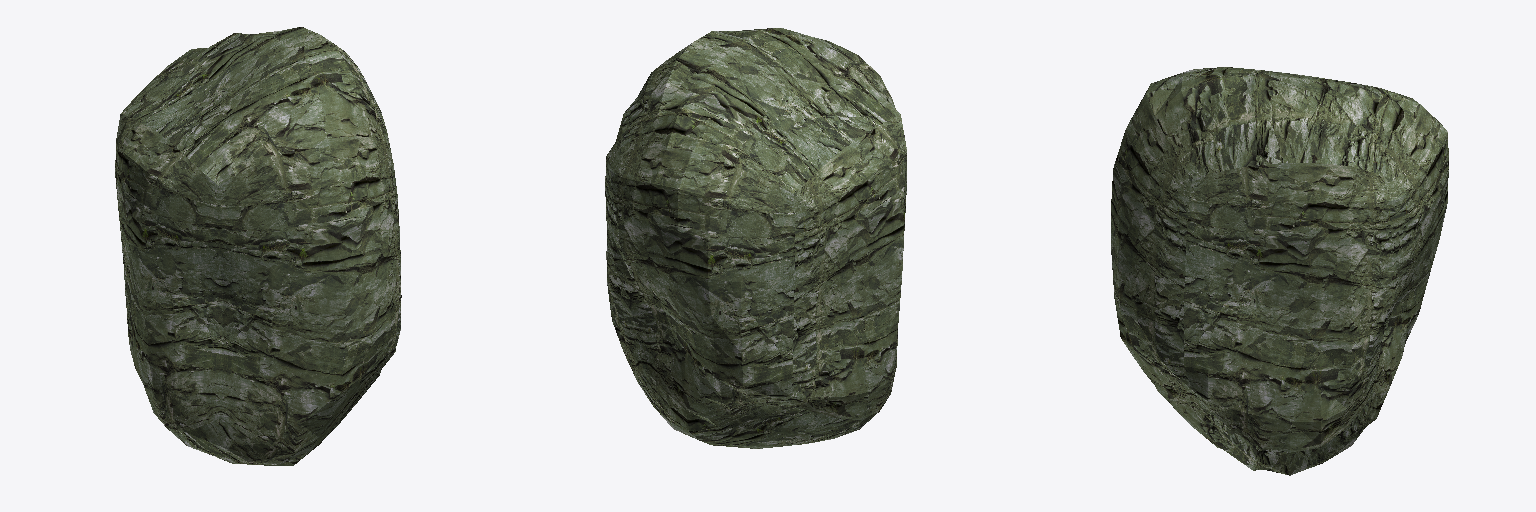
3 renders of one model, left to right at view 1: azimuth 30°, elevation 25°; view 2: azimuth 150°, elevation 25°; view 3: azimuth 270°, elevation 25°, orthographic.
Parts seen in each view (by area): view 1: Cube; view 2: Cube; view 3: Cube.
Part boxes in pixels (x1,y1,x2,y2): Cube: (115, 27, 401, 465); Cube: (605, 28, 906, 448); Cube: (1111, 67, 1448, 475).
Size of the model in its own units: 1.15 by 1.76 by 1.35.
1 materials, 1 textured.